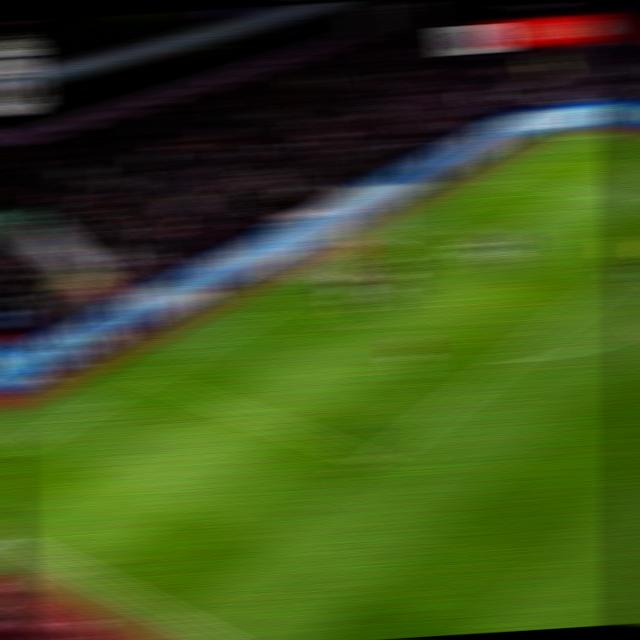bigarea_bottom_inner: (358, 453, 392, 470)
bigarea_bottom_outter: (132, 370, 163, 383)
bigarea_top_outter: (490, 175, 521, 184)
bottom_arc_area_intersection: (492, 352, 524, 368)
corner: (574, 129, 606, 137)
smallarea_bottom_inner: (319, 319, 352, 336)
smallarea_bottom_outter: (256, 303, 288, 315)
smallarea_top_outter: (415, 215, 445, 228)
top_arc_area_intersection: (612, 264, 640, 275)
